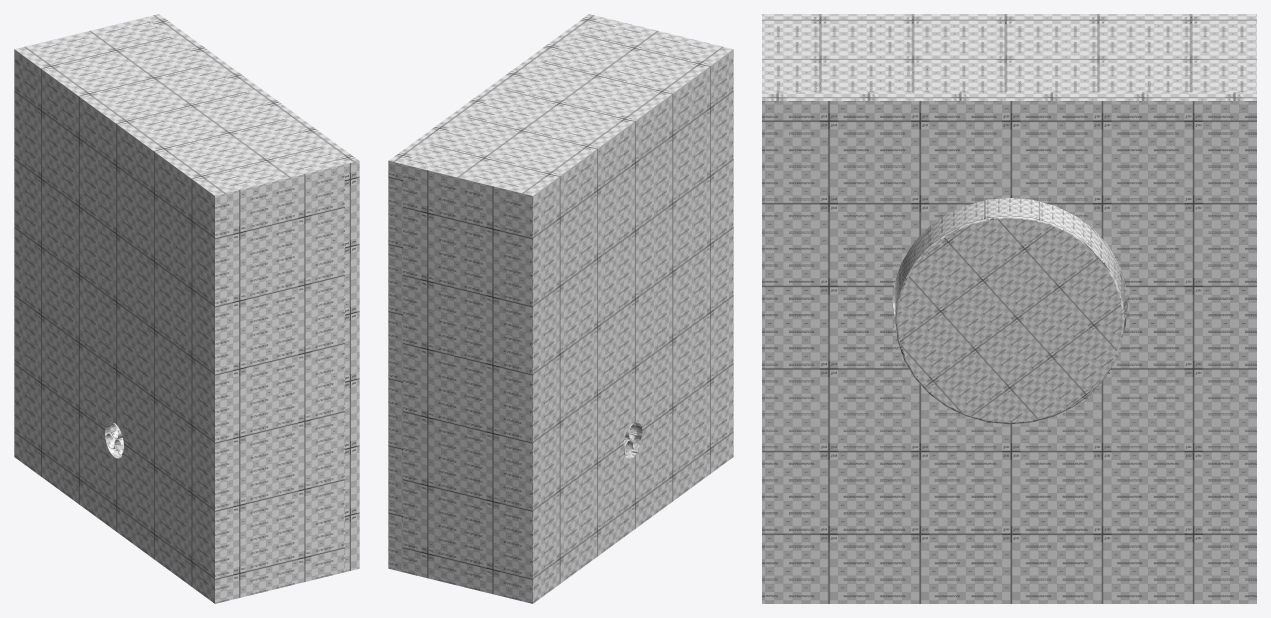
File: HydroMeter.fbx
3 renders of one model, left to right at view 1: azimuth 30°, elevation 25°; view 2: azimuth 150°, elevation 25°; view 3: azimuth 270°, elevation 25°, orthographic. The views are drawn at different scales.
Visible parts, largest first — view 1: Hydro Meter Box, Hydro Meter Box Front; view 2: Hydro Meter Box, Hydro Meter Box Front; view 3: Hydro Meter Box Front, Hydro Meter Plastic Cover, Hydro Meter Box.
Boxes of the visible parts, bbox=[...] form: Hydro Meter Box: bbox=[14, 17, 344, 603]; Hydro Meter Box Front: bbox=[145, 14, 359, 572]; Hydro Meter Box: bbox=[403, 17, 733, 603]; Hydro Meter Box Front: bbox=[388, 14, 602, 572]; Hydro Meter Box Front: bbox=[762, 92, 1256, 603]; Hydro Meter Plastic Cover: bbox=[895, 198, 1124, 424]; Hydro Meter Box: bbox=[762, 14, 1256, 317].
Size of the model in its own units: 11.83 by 27.05 by 24.04.
